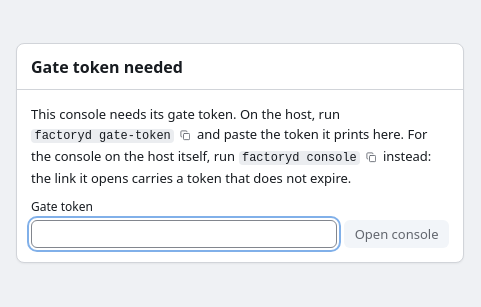
Test case: a pasted token the server refuses is not stored, and the screen says so
In the field labelled "Gate token": (184, 234) [31, 220, 337, 248], type "stale"
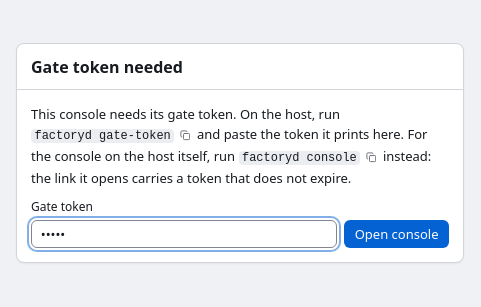
Click the button "Open console": click(397, 234) [344, 220, 449, 248]
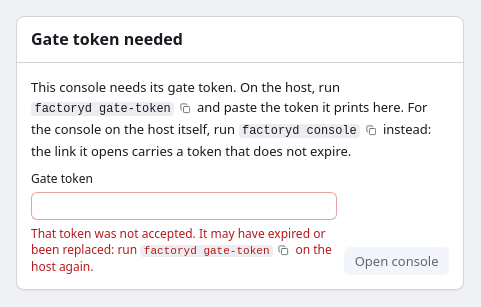
Result: the message shows "That token was not accepted" at [31, 225, 325, 258]
Result: the field labelled "Gate token" is empty at [31, 192, 337, 220]
